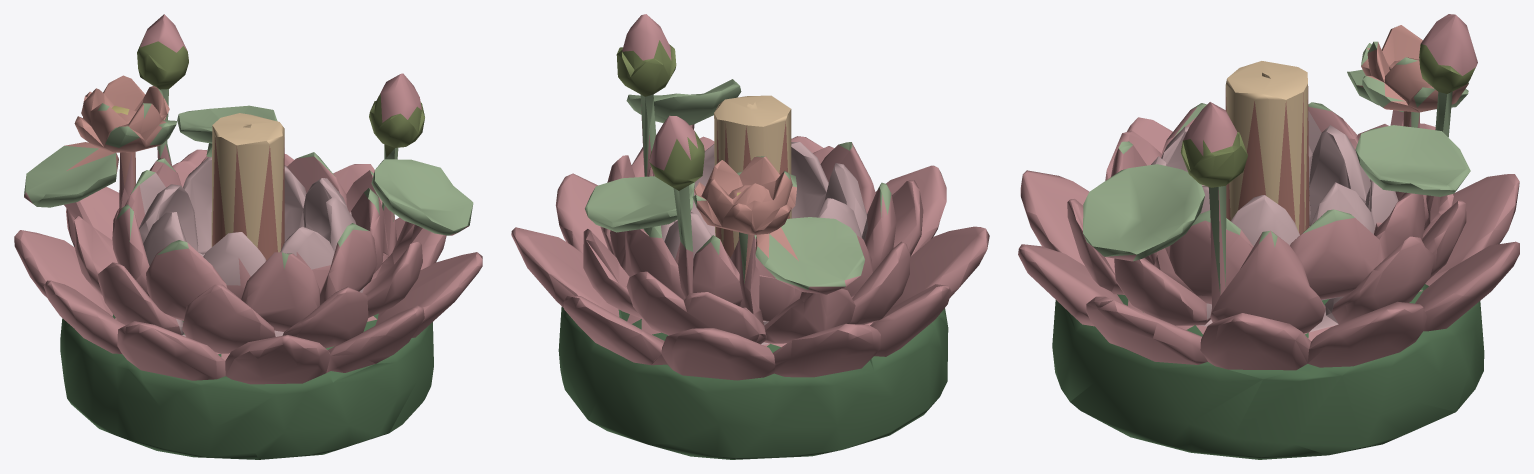
Rendered from lotus_bud_01.full.glb.
3 views of the same model, side by side, from view 1: azimuth 30°, elevation 25°; view 2: azimuth 150°, elevation 25°; view 3: azimuth 270°, elevation 25° (orthographic). The views are drawn at different scales.
Size of the model in its own units: 2.13 by 1.7 by 2.12.
